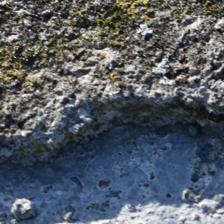Crack: (5, 41, 212, 133)
